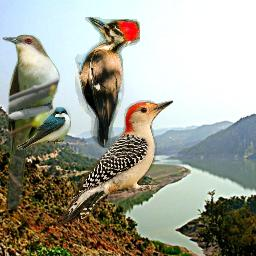Cuckoo: (2, 34, 61, 209)
Swallow: (16, 107, 71, 150)
Woodpecker: (53, 100, 173, 228), (73, 17, 140, 148)
